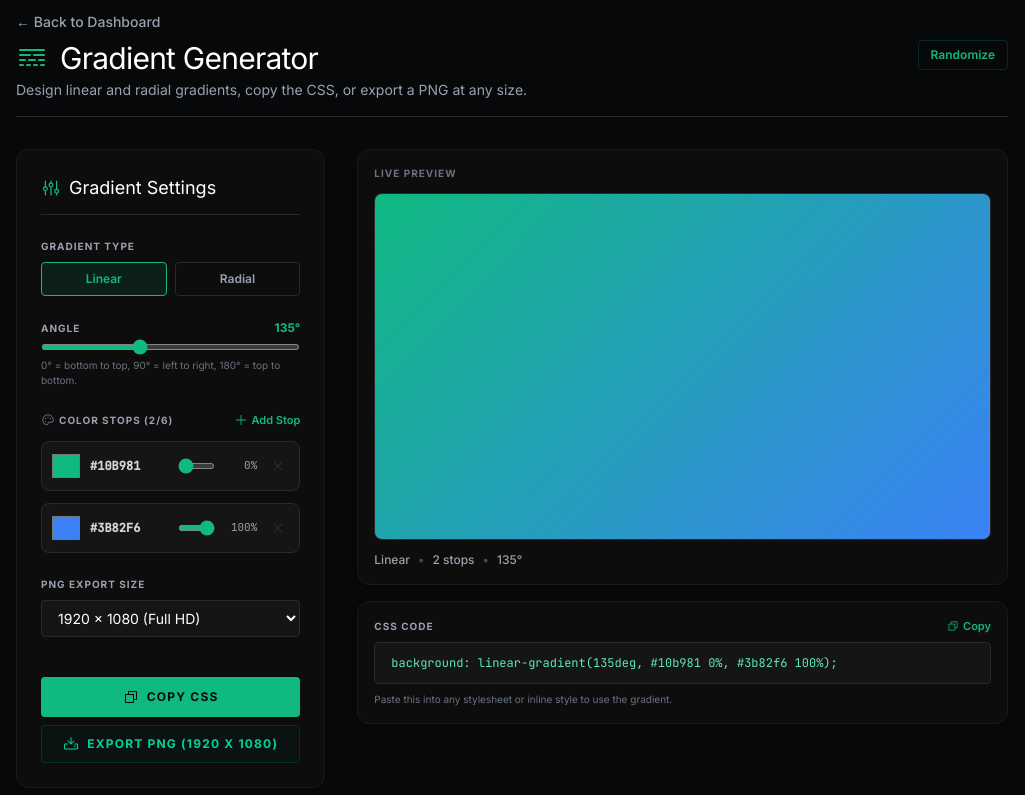
Test: gradient-generator component › switches to a radial gradient and updates the CSS
This screenshot has width=1025, height=795.
Click the button "radial" at (238, 279), box left=175, top=262, right=300, bottom=296
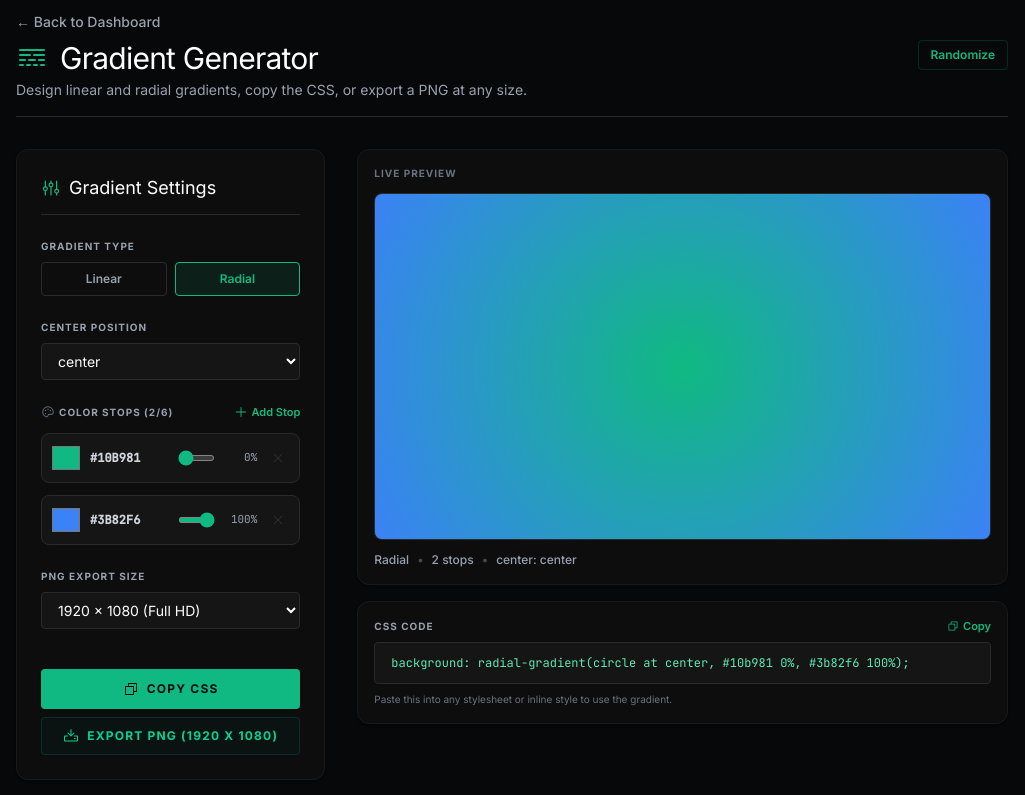
expect the text with test id "gradient-css" reads "background: radial-gradient(circle at center, #10b981 0%, #3b82f6 100%);": met, box left=391, top=655, right=910, bottom=671
